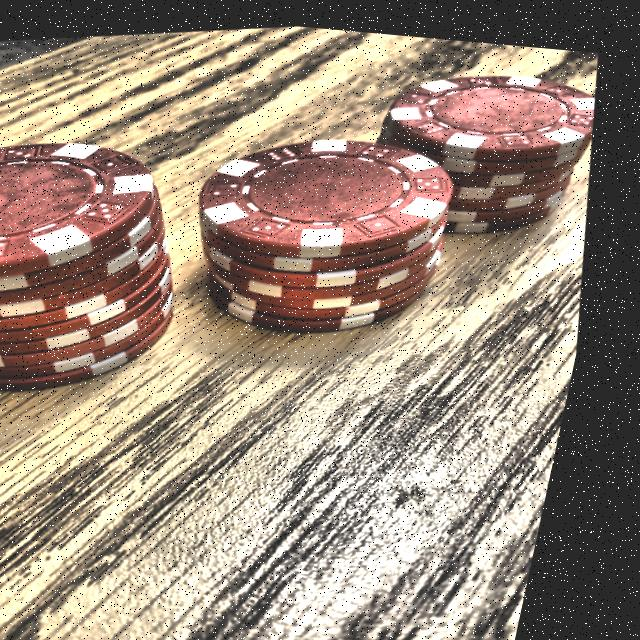Chip: (168, 84, 511, 374), (0, 96, 246, 419), (341, 27, 619, 275)
